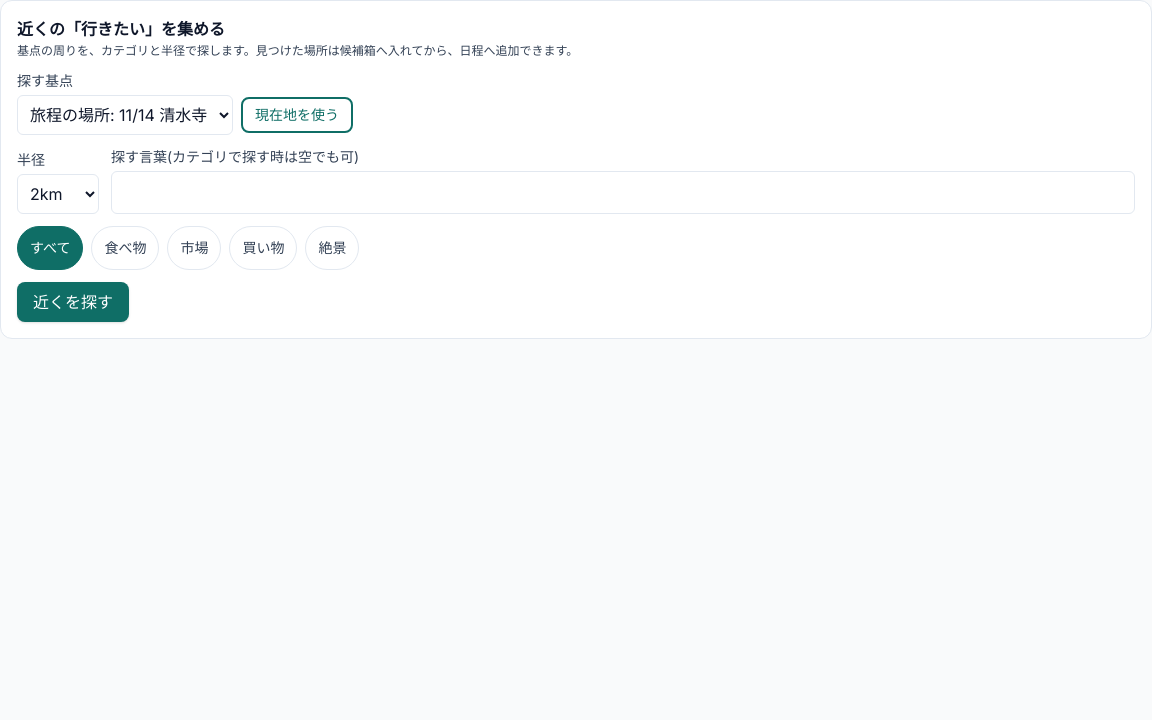
Test: 近くの「行きたい」を集める › 旅程の場所を基点にカテゴリと半径で探し、近い順に出典つきで出す。候補箱へ入れられる
Step 1. Click the button with test id "nearby-search" → (73, 302), box [17,282,129,322]
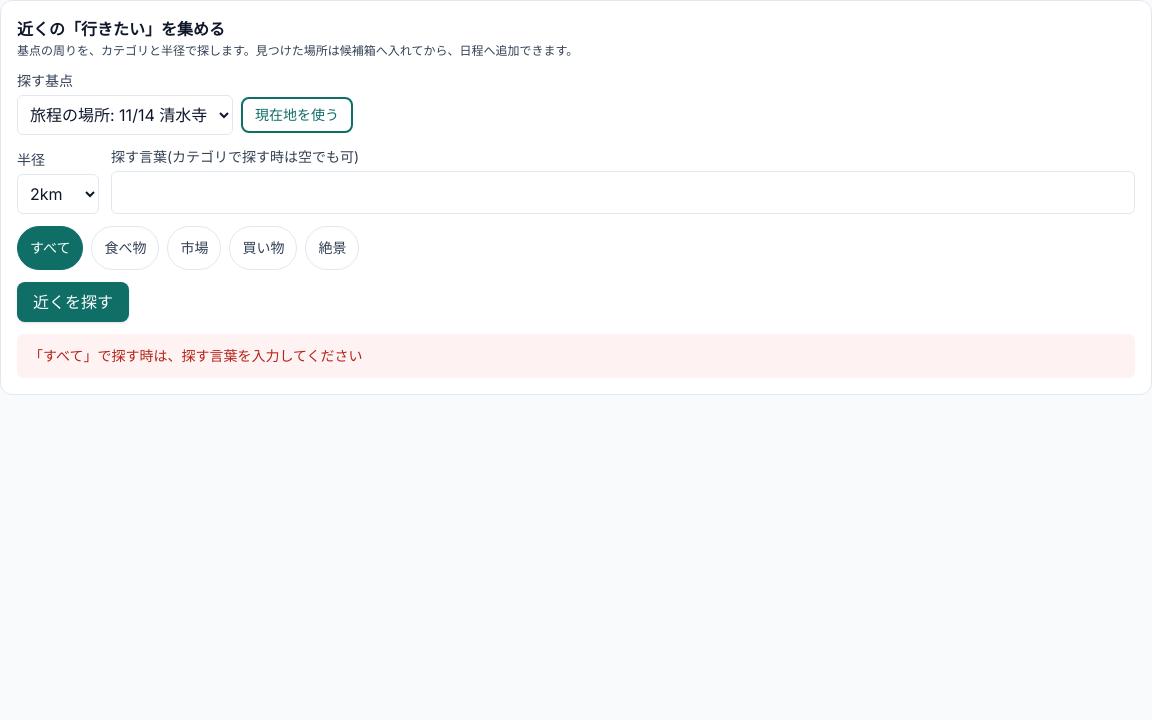
Result: the message shows "探す言葉を入力" at [29,347,363,364]
Step 2. Click the button with test id "nearby-category-food" → (126, 248), box [92,226,160,270]
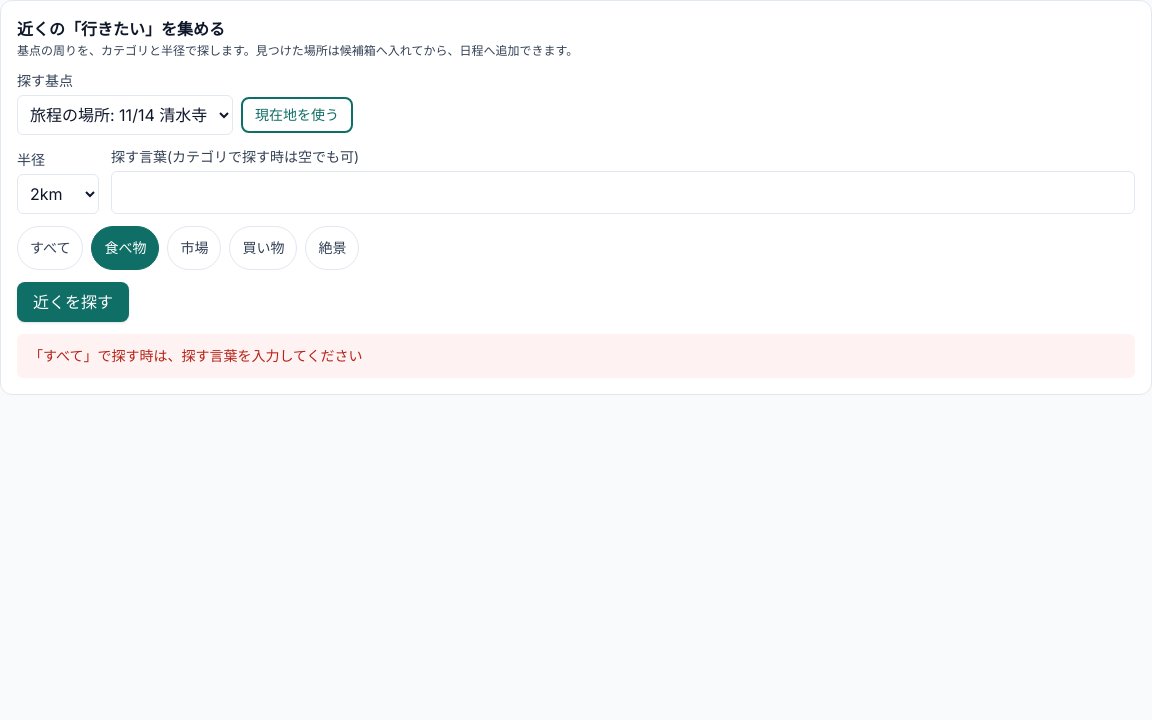
Result: the button with test id "nearby-category-food" is pressed at [92,226,160,270]
Step 3. Click the button with test id "nearby-search" → (73, 302), box [17,282,129,322]
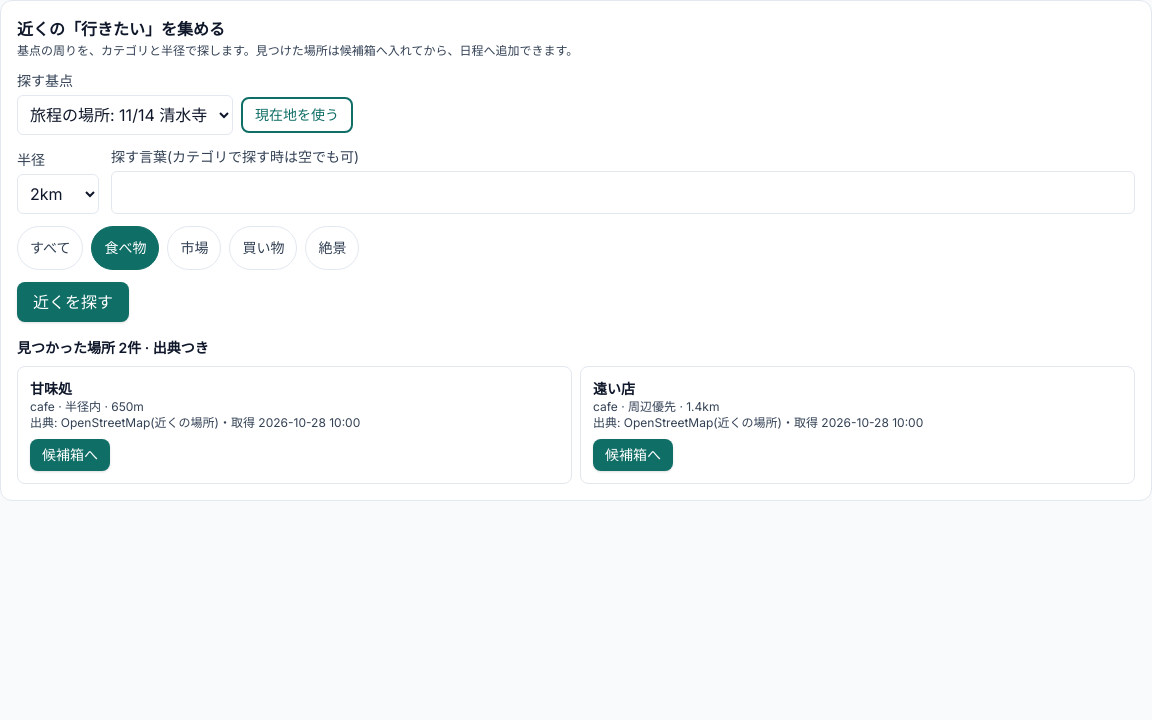
Result: the list item with test id "nearby-result-" shows "甘味処" at [30,380,72,397]
Result: the list item with test id "nearby-result-" shows "半径内 · 650m" at [30,399,144,414]
Result: the list item with test id "nearby-result-" shows "周辺優先 · 1.4km" at [593,399,719,414]
Step 4. Click the button with test id "nearby-add-c1" → (70, 455), box [30,439,110,471]
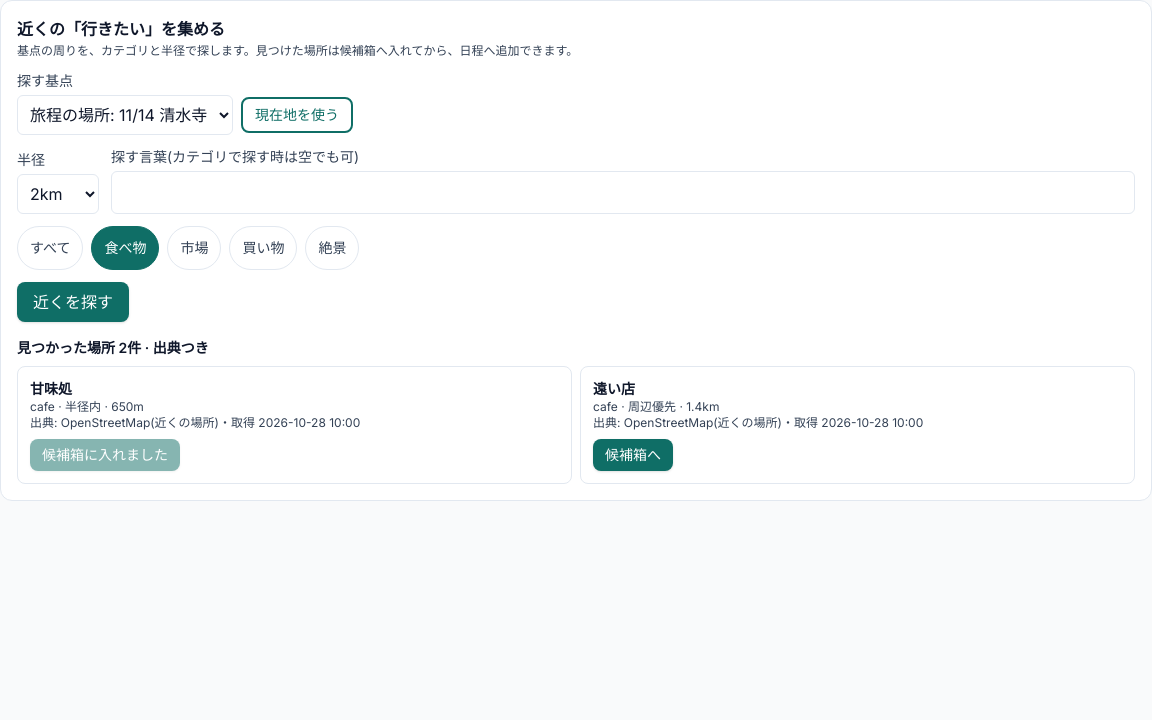
Result: the text "候補箱に入れました" is shown at [42,445,168,465]
